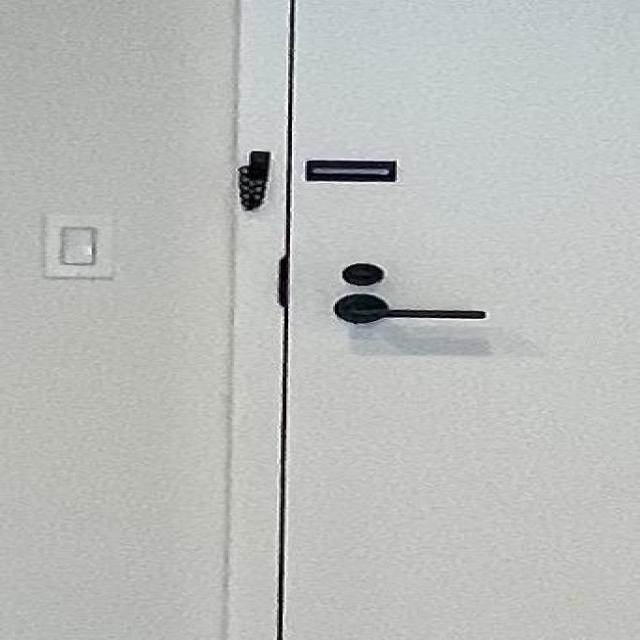door_handle: (318, 289, 505, 334)
